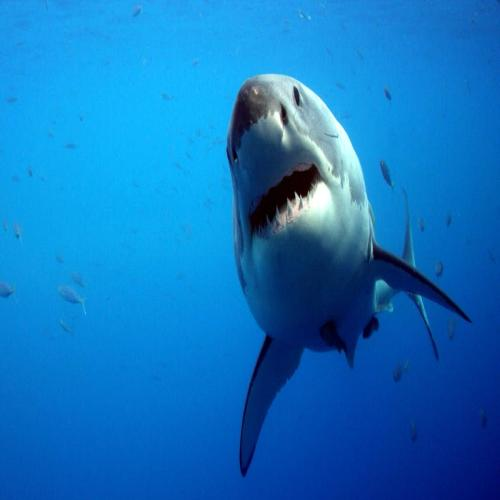shark-endangered: (219, 70, 396, 384)
